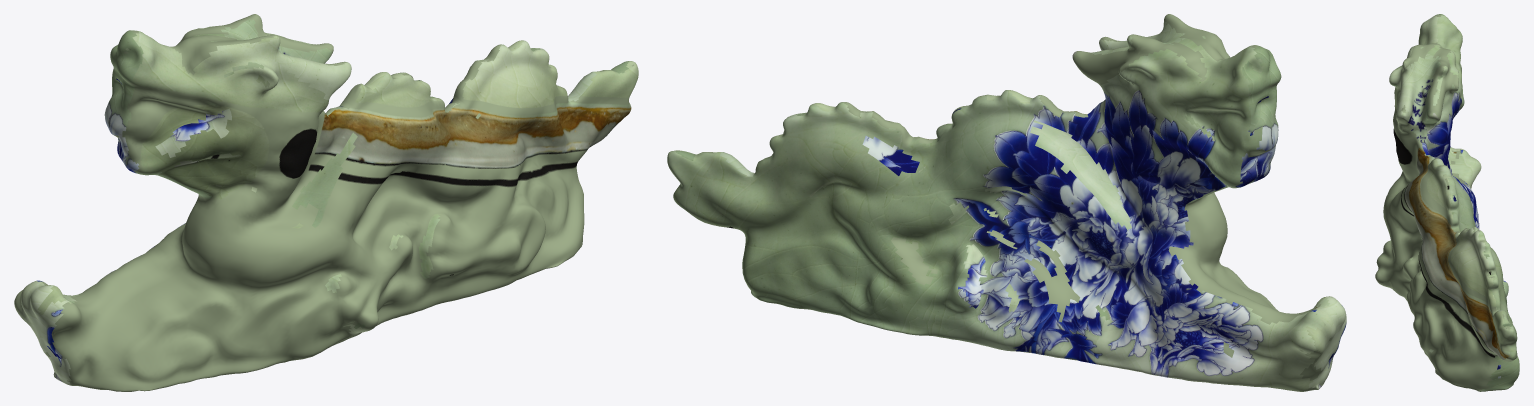
The picture shows the model from 3 angles, left to right: view 1: azimuth 30°, elevation 25°; view 2: azimuth 150°, elevation 25°; view 3: azimuth 270°, elevation 25°; orthographic projection. The views are drawn at different scales.
Parts seen in each view (by area): view 1: Retopo_mesh.002_0; view 2: Retopo_mesh.002_0; view 3: Retopo_mesh.002_0.
Boxes of the visible parts, x1,y1,x2,y2 form: Retopo_mesh.002_0: (14, 14, 638, 391); Retopo_mesh.002_0: (667, 14, 1346, 391); Retopo_mesh.002_0: (1375, 14, 1519, 391).
Bounding box in the file's own units: 4.75 × 2.33 × 1.37.
